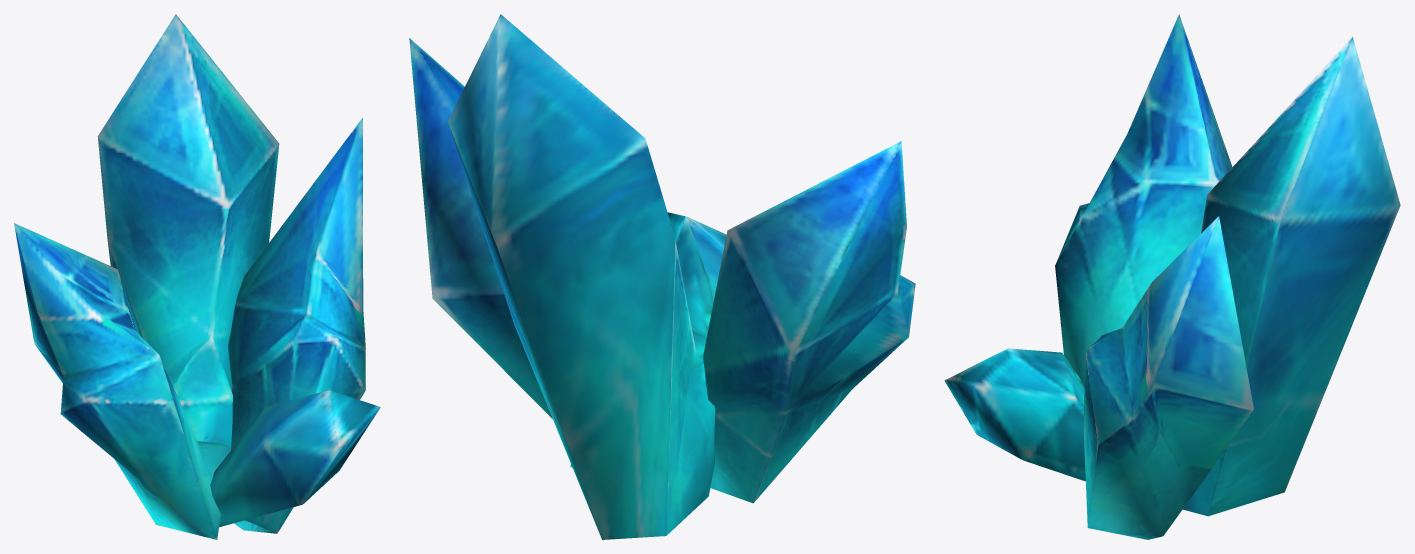
The model's file is h5_shuijingshi_c.FBX.
The picture shows the model from 3 angles, left to right: view 1: azimuth 30°, elevation 25°; view 2: azimuth 150°, elevation 25°; view 3: azimuth 270°, elevation 25°; orthographic projection. The views are drawn at different scales.
Visible parts, largest first — view 1: h5_shuijingshi_c; view 2: h5_shuijingshi_c; view 3: h5_shuijingshi_c.
Part boxes in pixels (x1,y1,x2,y2): h5_shuijingshi_c: [14, 14, 380, 539]; h5_shuijingshi_c: [409, 14, 915, 539]; h5_shuijingshi_c: [944, 14, 1400, 539].
Bounding box in the file's own units: 2.15 × 2.51 × 2.02.
Materials: 1 (1 with a texture image).
